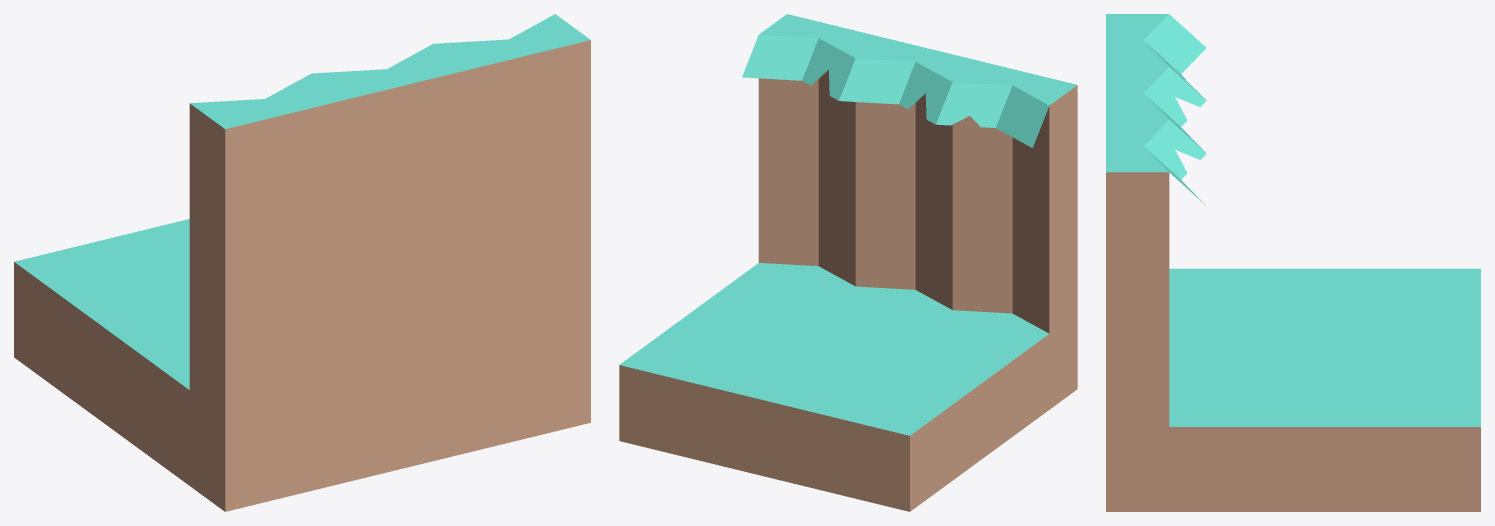
File: cliff_quarter_top_rock.glb
3 views of the same model, side by side, from view 1: azimuth 30°, elevation 25°; view 2: azimuth 150°, elevation 25°; view 3: azimuth 270°, elevation 25° (orthographic). The views are drawn at different scales.
Parts seen in each view (by area): view 1: cliff_quarter_top_rock; view 2: cliff_quarter_top_rock; view 3: cliff_quarter_top_rock.
Boxes of the visible parts, <box> form: cliff_quarter_top_rock: <box>14,14,590,511</box>; cliff_quarter_top_rock: <box>619,14,1077,511</box>; cliff_quarter_top_rock: <box>1106,14,1480,511</box>.
Bounding box in the file's own units: 1 × 1 × 1.
